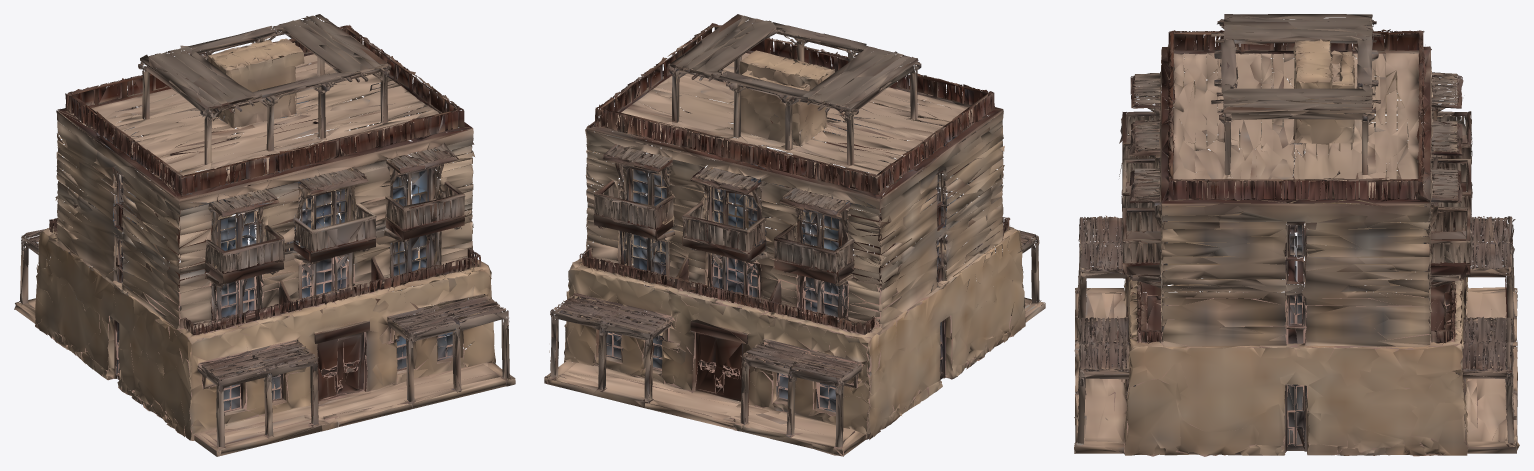
Rendered from hotel.glb.
3 views of the same model, side by side, from view 1: azimuth 30°, elevation 25°; view 2: azimuth 150°, elevation 25°; view 3: azimuth 270°, elevation 25° (orthographic). The views are drawn at different scales.
Parts seen in each view (by area): view 1: LO.001; view 2: LO.001; view 3: LO.001.
Boxes of the visible parts, <box> form: LO.001: <box>14,14,515,456</box>; LO.001: <box>544,14,1045,456</box>; LO.001: <box>1074,14,1519,456</box>.
Bounding box in the file's own units: 1.68 × 1.5 × 1.91.
1 material, 1 textured.
